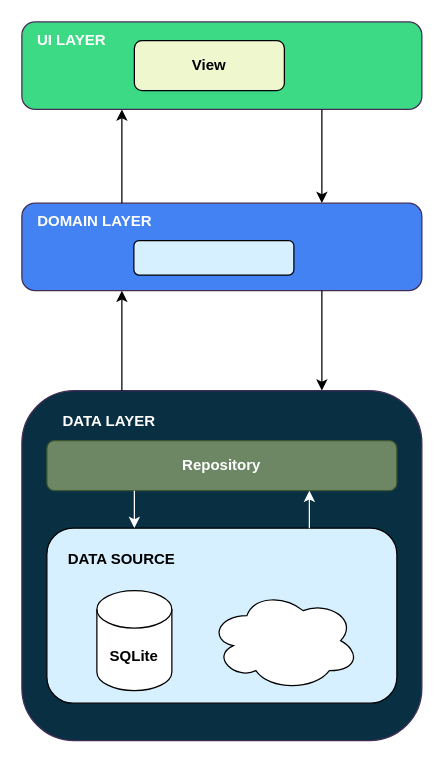
This 444x763 diagram has some shape labels left out. The centre of each missing label's shape, as x and y in pixels:
PokeAPI: [283,640]
ViewModel: [213,257]
